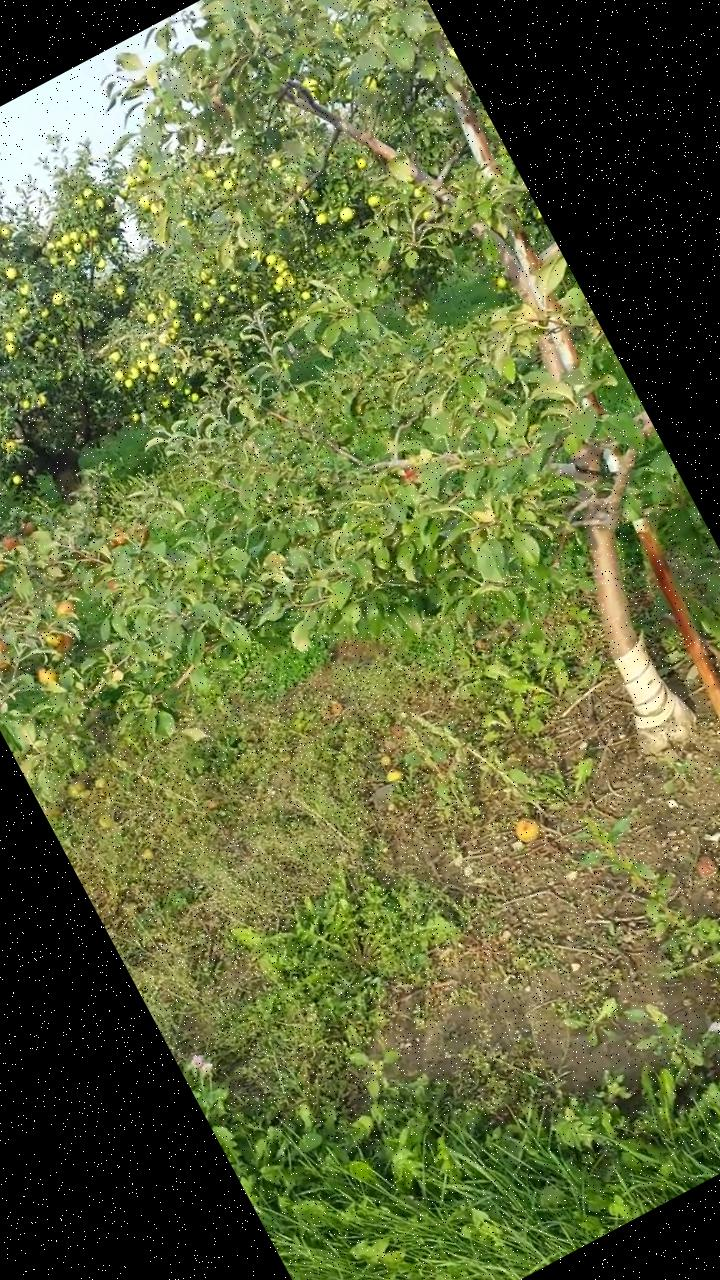Apple: (49, 629, 80, 658), (394, 461, 425, 490), (36, 664, 59, 687), (41, 628, 65, 650), (54, 598, 77, 620), (107, 528, 130, 548), (17, 519, 36, 538), (1, 532, 20, 551), (0, 635, 7, 656)
